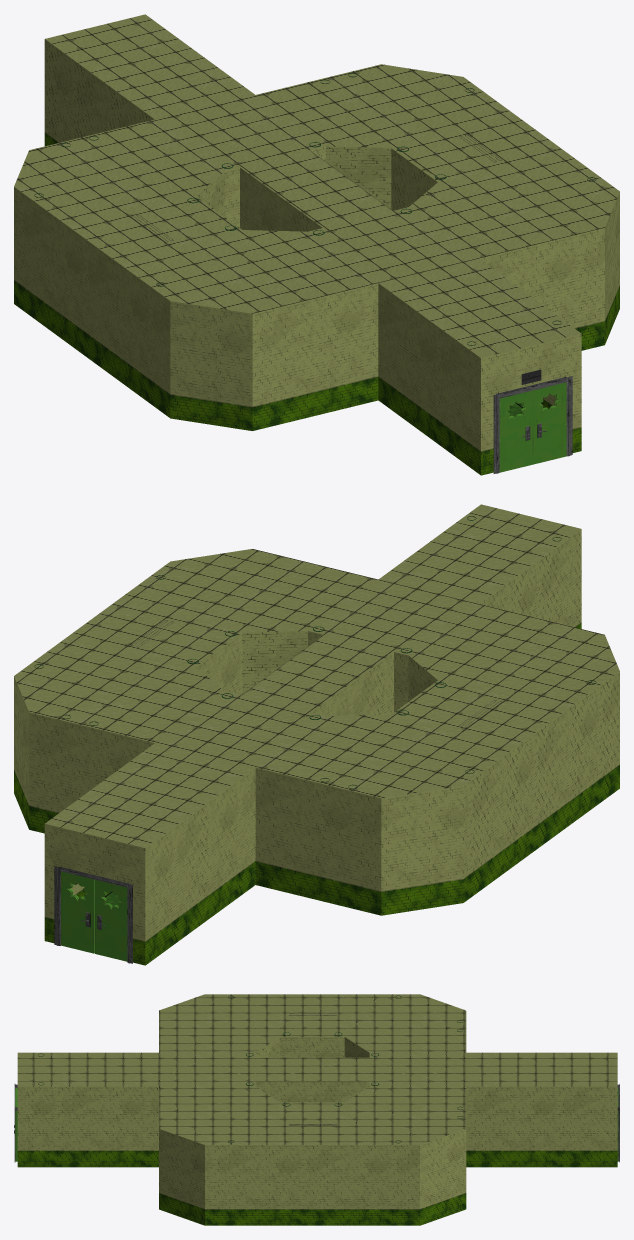
File: Library_V2.fbx
3 views of the same model, one above another, from view 1: azimuth 30°, elevation 25°; view 2: azimuth 150°, elevation 25°; view 3: azimuth 270°, elevation 25° (orthographic). The views are drawn at different scales.
Parts seen in each view (by area): view 1: Roof, Wall, Right, Left, Frame; view 2: Roof, Wall, Left, Right, Frame; view 3: Wall, Roof.
Part boxes in pixels (x1,y1,x2,y2): Roof: (14, 14, 619, 358); Wall: (14, 39, 619, 475); Right: (499, 390, 532, 472); Left: (533, 382, 566, 464); Frame: (493, 376, 572, 473); Roof: (14, 504, 619, 848); Wall: (14, 529, 619, 965); Left: (61, 871, 94, 953); Right: (95, 879, 127, 961); Frame: (54, 865, 132, 963); Wall: (17, 1037, 617, 1225); Roof: (17, 994, 617, 1144).
Size of the model in its own units: 41.56 by 10.43 by 70.56.
